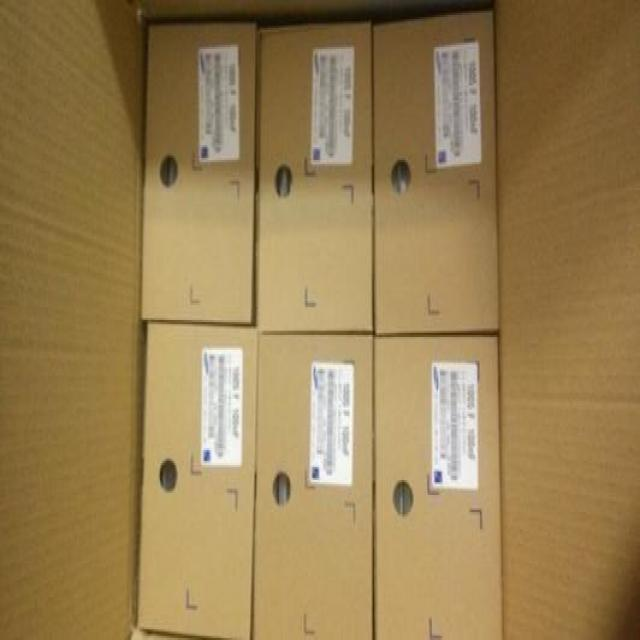box: (372, 331, 502, 640), (138, 315, 260, 640), (376, 13, 496, 340), (252, 331, 374, 640), (138, 20, 255, 324), (260, 24, 370, 331)
